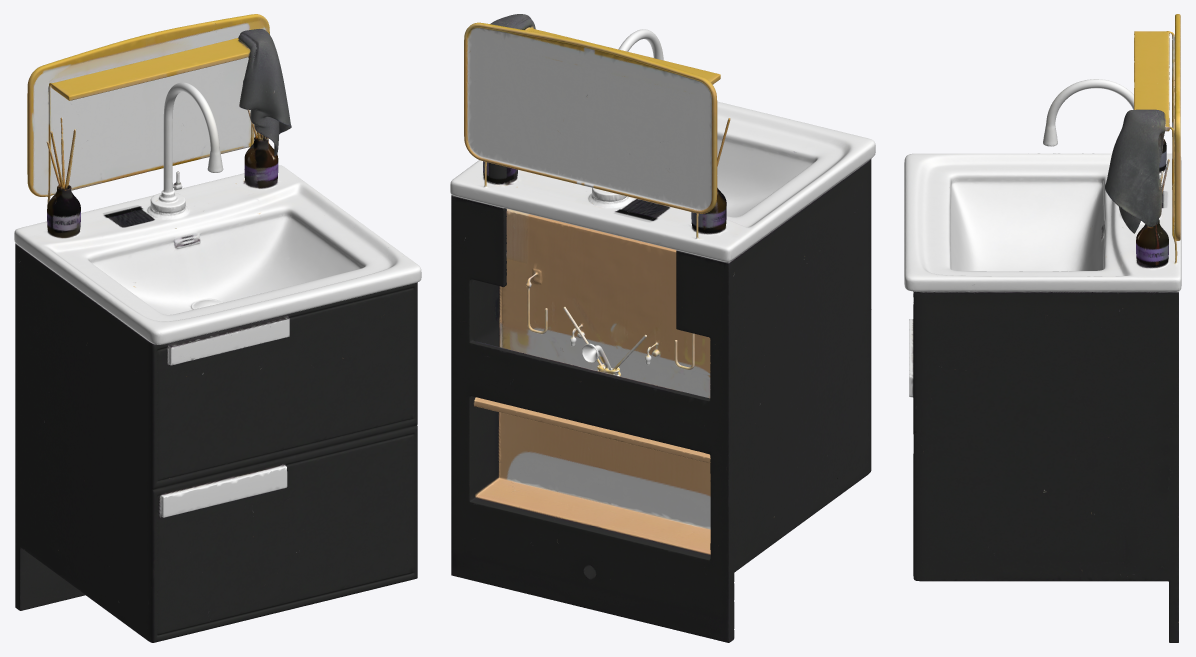
File: faucet-new.glb
3 renders of one model, left to right at view 1: azimuth 30°, elevation 25°; view 2: azimuth 150°, elevation 25°; view 3: azimuth 270°, elevation 25°, orthographic. The views are drawn at different scales.
Size of the model in its own units: 0.9894 by 1.9 by 0.9154.
Materials: 1 (1 with a texture image).
